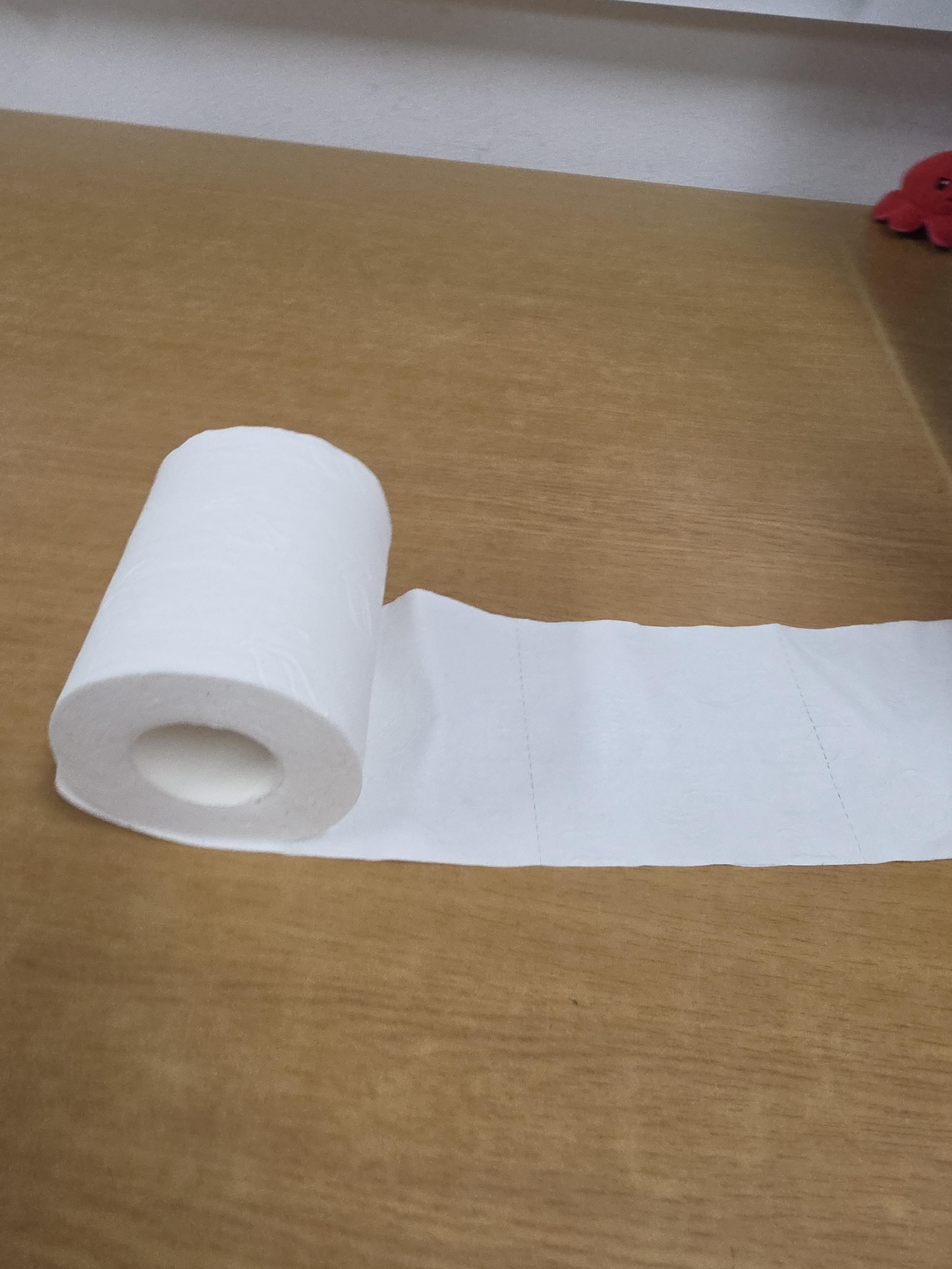tissue: (49, 427, 951, 869)
